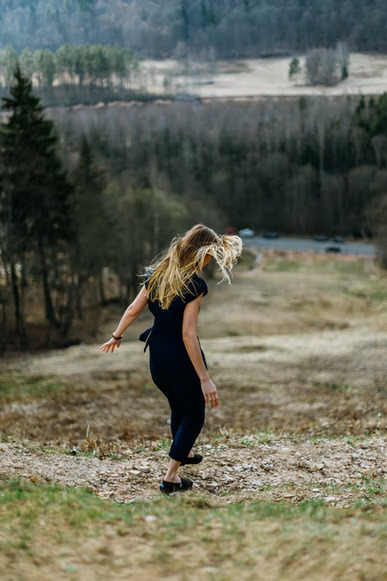person: (102, 222, 220, 491)
